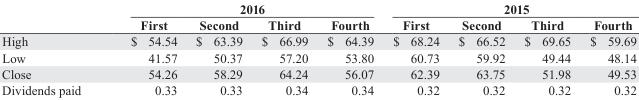table: (1, 1, 635, 96)
table column: (1, 1, 105, 96), (105, 1, 185, 96), (185, 1, 251, 96), (251, 1, 317, 96), (382, 1, 448, 96), (448, 1, 514, 96), (317, 1, 382, 96), (514, 1, 579, 96), (579, 1, 635, 96)
table column header: (1, 1, 635, 32)
table row: (1, 32, 635, 49), (1, 16, 635, 32), (1, 49, 635, 65), (1, 65, 635, 81), (1, 1, 635, 16), (1, 81, 635, 96)
table spanning cell: (105, 1, 382, 16), (382, 1, 635, 16)
